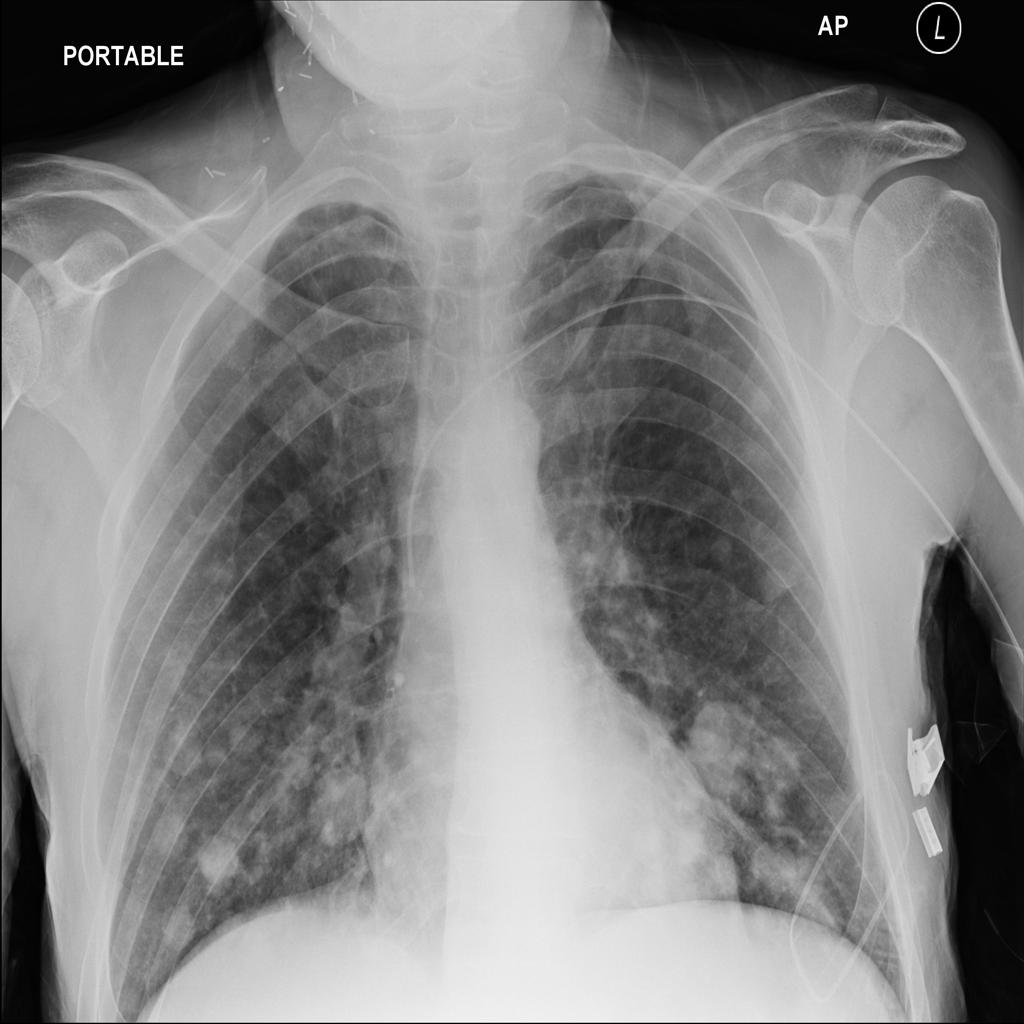nodule: (307, 755, 376, 853), (686, 688, 756, 776), (750, 843, 827, 918), (750, 723, 812, 805), (619, 841, 683, 918), (746, 541, 806, 620), (157, 711, 216, 786), (193, 818, 250, 893), (146, 800, 196, 878), (151, 898, 203, 957), (193, 540, 243, 594), (276, 476, 320, 536), (228, 714, 275, 770), (699, 517, 743, 575), (737, 372, 783, 427), (665, 818, 714, 869), (698, 849, 746, 901), (624, 815, 671, 868)
